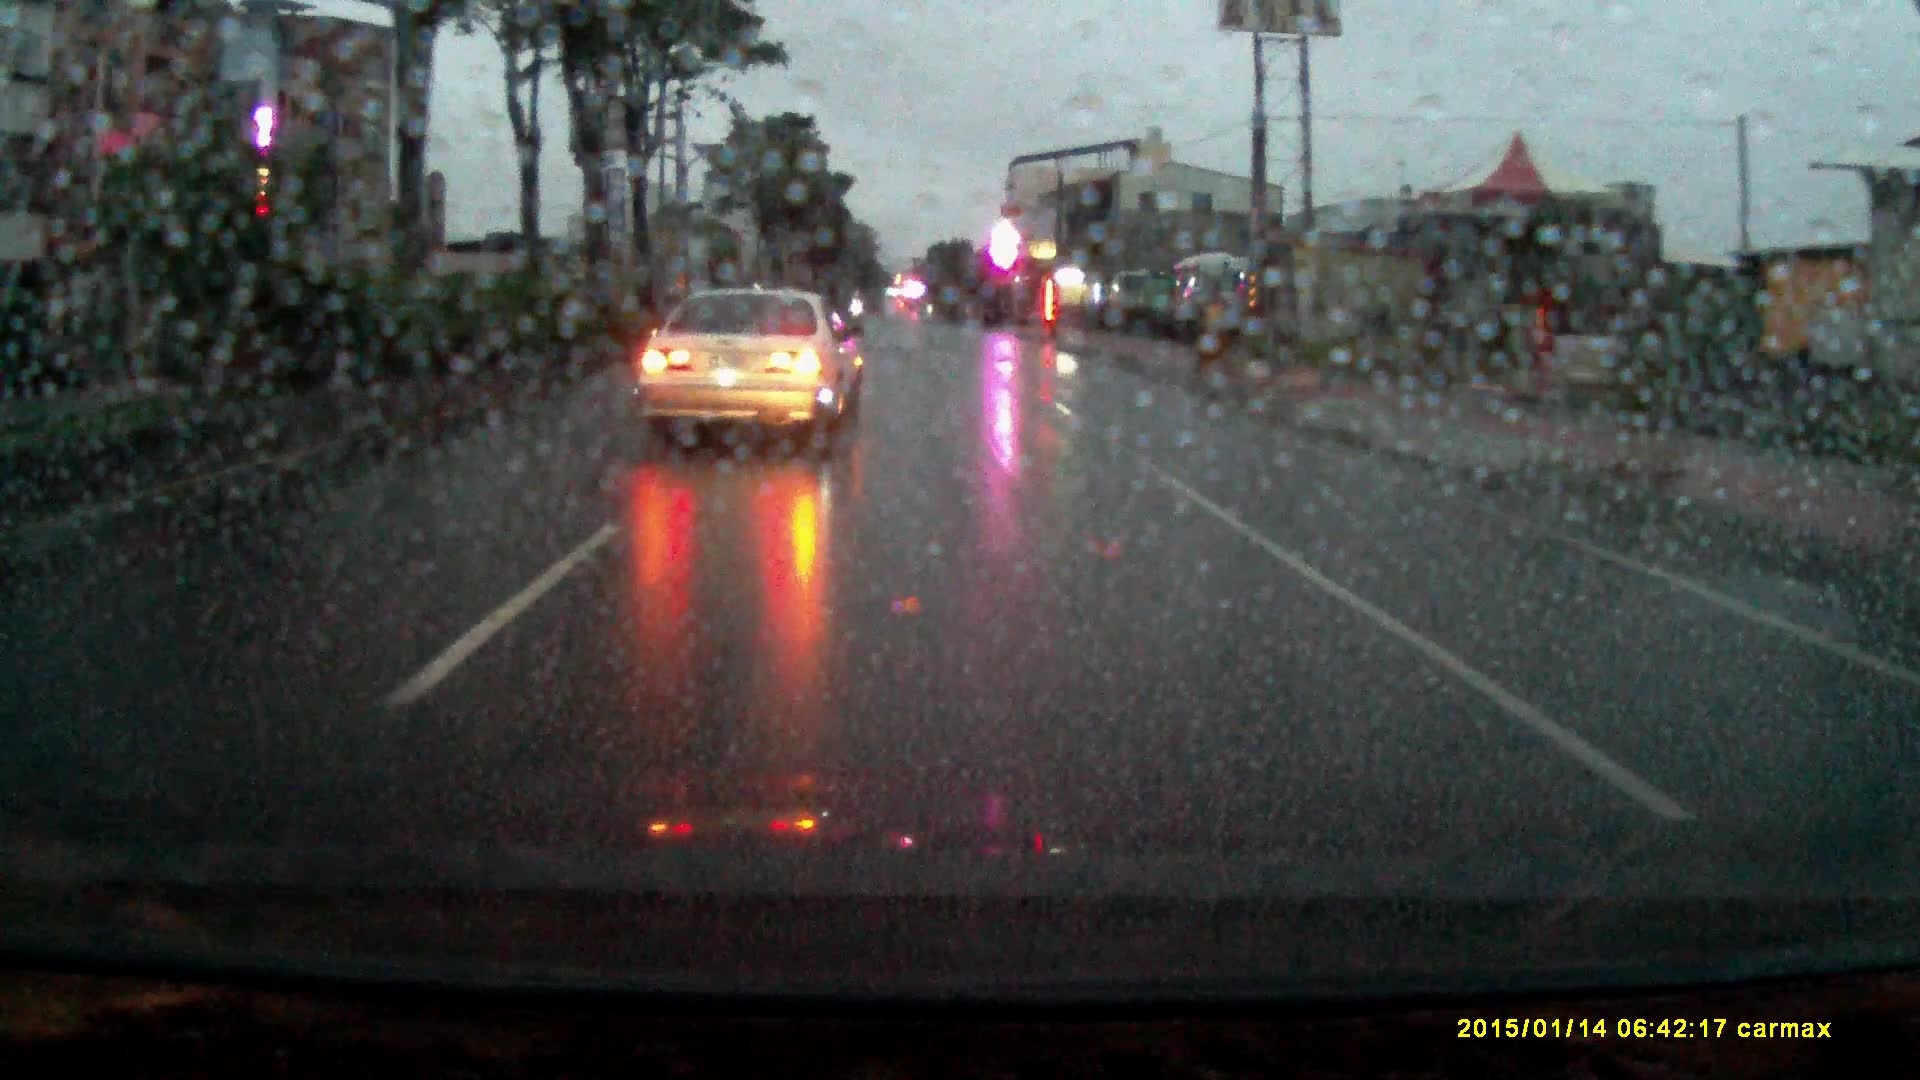vehicle: (633, 287, 872, 454), (1174, 258, 1251, 344), (1109, 274, 1158, 331)
